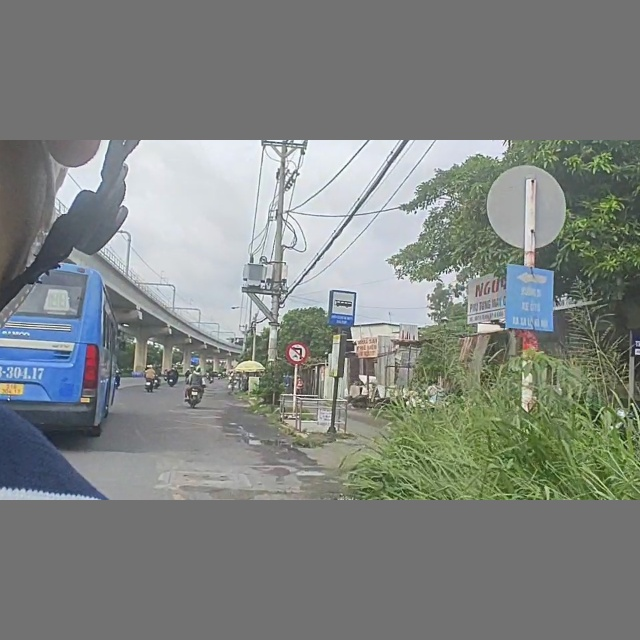I.434a: (327, 289, 358, 327)
P.123a: (286, 341, 310, 365)
